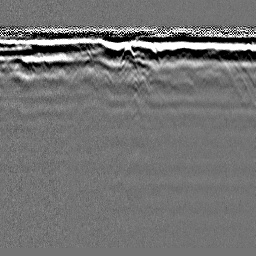cavity: (118, 43, 139, 72)
